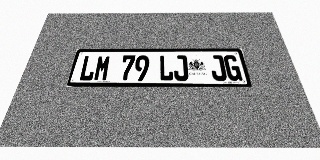7: (119, 55, 136, 81)
9: (134, 55, 149, 81)
G: (223, 55, 243, 81)
J: (209, 55, 227, 81), (173, 55, 189, 81)
L: (78, 55, 98, 81), (159, 55, 174, 81)
M: (93, 55, 111, 81)
